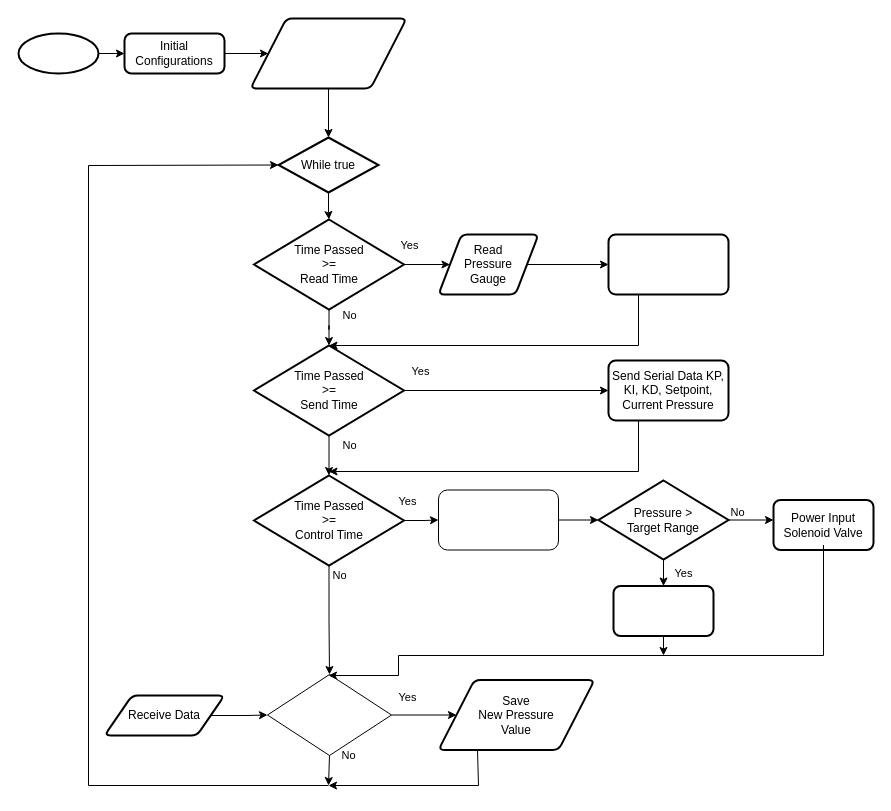
Image size: 891x811. Some labels were removed from this diagram. The shapes that lost their labels are listed below. From the top down, each one's centre as x and y in pixels, then its label:
At point 58,53: "Start".
At point 328,53: "Load Saved KP, KI, KD Values".
At point 668,264: "Update Current Pressure".
At point 498,519: "Calculate PID Control Signal".
At point 663,610: "Power Vent Solenoid Valve".
At point 329,715: "New Values Received From MCU".
